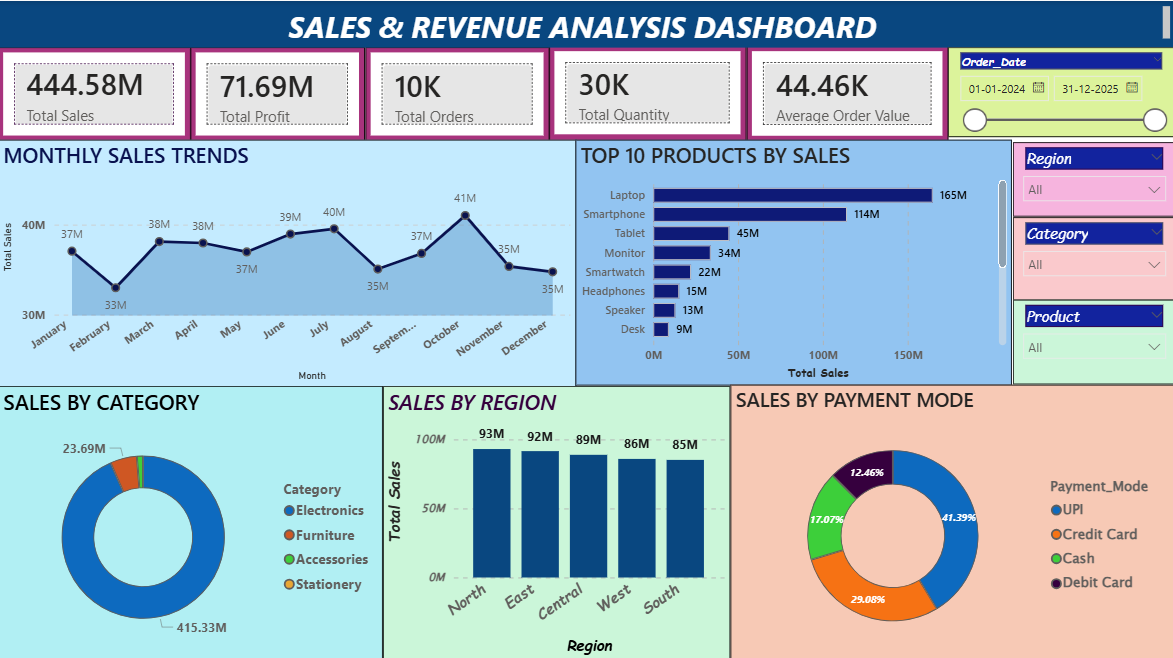

What the dashboard file says about the page in this screenshot:
{"tool":"powerbi","page":{"name":"Page 1","canvas":[1280,720],"ordinal":0},"visuals":[{"type":"cardVisual","fields":{"Data":["Sales_Revenue_Analysis_10000_Rows.Total Sales"]},"box":[0,50.8,209.9,102.9],"z":0},{"type":"cardVisual","fields":{"Data":["Sales_Revenue_Analysis_10000_Rows.Total Profit"]},"box":[209.9,50.8,189.4,102.9],"z":1000},{"type":"cardVisual","fields":{"Data":["Sales_Revenue_Analysis_10000_Rows.Total Orders"]},"box":[399.3,50.8,200.3,102.9],"z":2000},{"type":"cardVisual","fields":{"Data":["Sales_Revenue_Analysis_10000_Rows.Total Quantity"]},"box":[599.7,49.4,214.1,102.9],"z":3000},{"type":"cardVisual","fields":{"Data":["Sales_Revenue_Analysis_10000_Rows.Average Order Value"]},"box":[813.7,49.4,219.6,104.3],"z":4000},{"type":"lineChart","title":"MONTHLY SALES TRENDS","fields":{"Category":["Sales_Revenue_Analysis_10000_Rows.Order_Date.Variation.Date Hierarchy.Month"],"Y":["Sales_Revenue_Analysis_10000_Rows.Total Sales"]},"box":[0,150.9,628.5,269],"z":5000},{"type":"barChart","title":"TOP 10 PRODUCTS BY SALES","fields":{"Category":["Sales_Revenue_Analysis_10000_Rows.Product"],"Y":["Sales_Revenue_Analysis_10000_Rows.Total Sales"]},"box":[628.5,150.9,474.8,267.6],"z":6000},{"type":"donutChart","title":"SALES BY CATEGORY","fields":{"Category":["Sales_Revenue_Analysis_10000_Rows.Category"],"Y":["Sum(Sales_Revenue_Analysis_10000_Rows.Sales)"]},"box":[0,418.5,418.5,299.1],"z":7000},{"type":"columnChart","title":"SALES BY REGION","fields":{"Category":["Sales_Revenue_Analysis_10000_Rows.Region"],"Y":["Sales_Revenue_Analysis_10000_Rows.Total Sales"]},"box":[418.6,418.6,377.8,299],"z":8000},{"type":"donutChart","title":"SALES BY PAYMENT MODE","fields":{"Category":["Sales_Revenue_Analysis_10000_Rows.Payment_Mode"],"Y":["Sales_Revenue_Analysis_10000_Rows.Total Sales"]},"box":[796.4,417.2,483.8,300.4],"z":9000},{"type":"textbox","box":[0,0,1280.3,50.8],"z":10000},{"type":"slicer","fields":{"Values":["Sales_Revenue_Analysis_10000_Rows.Order_Date"]},"box":[1033.3,50.8,247,97.4],"z":11000},{"type":"slicer","fields":{"Values":["Sales_Revenue_Analysis_10000_Rows.Region"]},"box":[1103.3,153.7,177,81],"z":12000},{"type":"slicer","fields":{"Values":["Sales_Revenue_Analysis_10000_Rows.Category"]},"box":[1103.3,234.6,177,90.6],"z":13000},{"type":"slicer","fields":{"Values":["Sales_Revenue_Analysis_10000_Rows.Product"]},"box":[1103.3,325.2,177,91.9],"z":14000}]}

Visuals, with their boxes in screenshot pixels (x1, y1, x2, y2), scaled from the page's 1280x720 canvas onto the 1173x658 screenshot:
cardVisual - Sales_Revenue_Analysis_10000_Rows.Total Sales: rect(0, 46, 192, 140)
cardVisual - Sales_Revenue_Analysis_10000_Rows.Total Profit: rect(192, 46, 366, 140)
cardVisual - Sales_Revenue_Analysis_10000_Rows.Total Orders: rect(366, 46, 549, 140)
cardVisual - Sales_Revenue_Analysis_10000_Rows.Total Quantity: rect(550, 45, 746, 139)
cardVisual - Sales_Revenue_Analysis_10000_Rows.Average Order Value: rect(746, 45, 947, 140)
"MONTHLY SALES TRENDS" lineChart: rect(0, 138, 576, 384)
"TOP 10 PRODUCTS BY SALES" barChart: rect(576, 138, 1011, 382)
"SALES BY CATEGORY" donutChart: rect(0, 382, 384, 656)
"SALES BY REGION" columnChart: rect(384, 383, 730, 656)
"SALES BY PAYMENT MODE" donutChart: rect(730, 381, 1172, 656)
textbox: rect(0, 0, 1172, 46)
slicer - Sales_Revenue_Analysis_10000_Rows.Order_Date: rect(947, 46, 1172, 135)
slicer - Sales_Revenue_Analysis_10000_Rows.Region: rect(1011, 140, 1172, 214)
slicer - Sales_Revenue_Analysis_10000_Rows.Category: rect(1011, 214, 1172, 297)
slicer - Sales_Revenue_Analysis_10000_Rows.Product: rect(1011, 297, 1172, 381)
